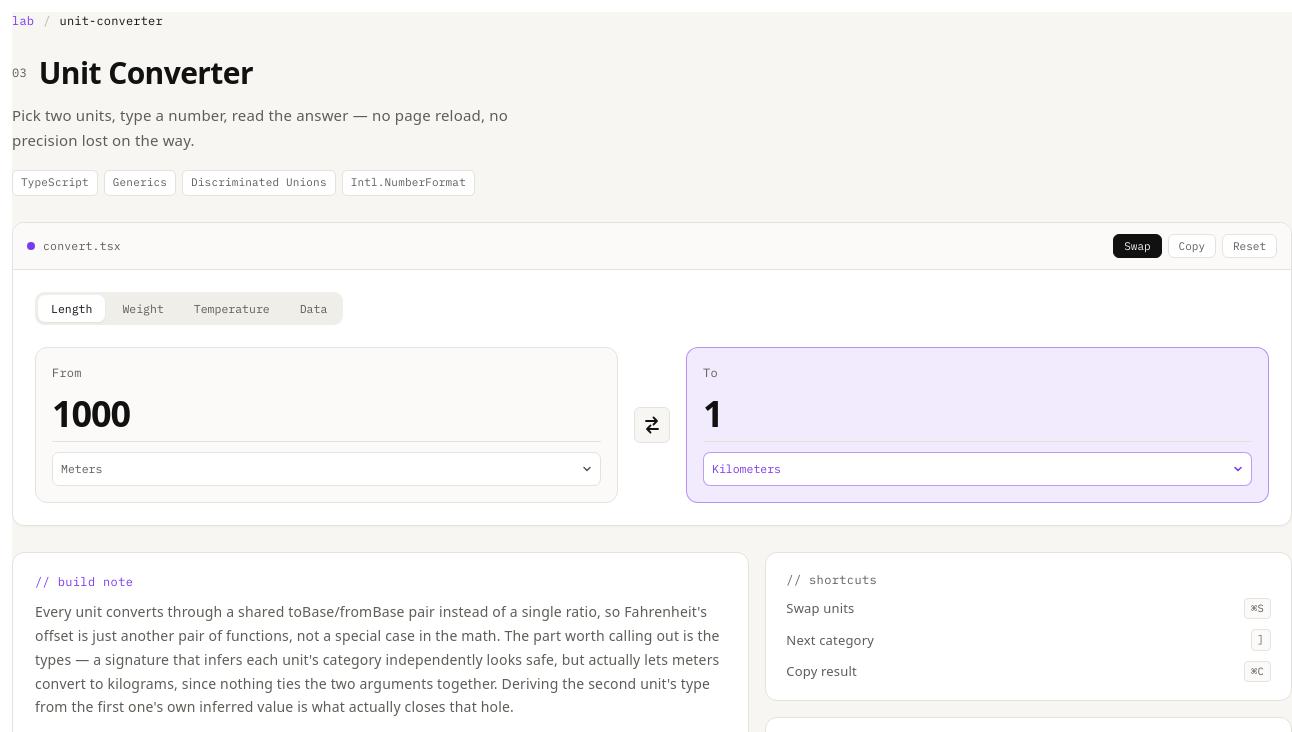
Test: UnitConverterPage › switches category, resetting to that category's defaults
Click the tab "Temperature". click: {"x": 232, "y": 309}
box: [181,295,283,322]
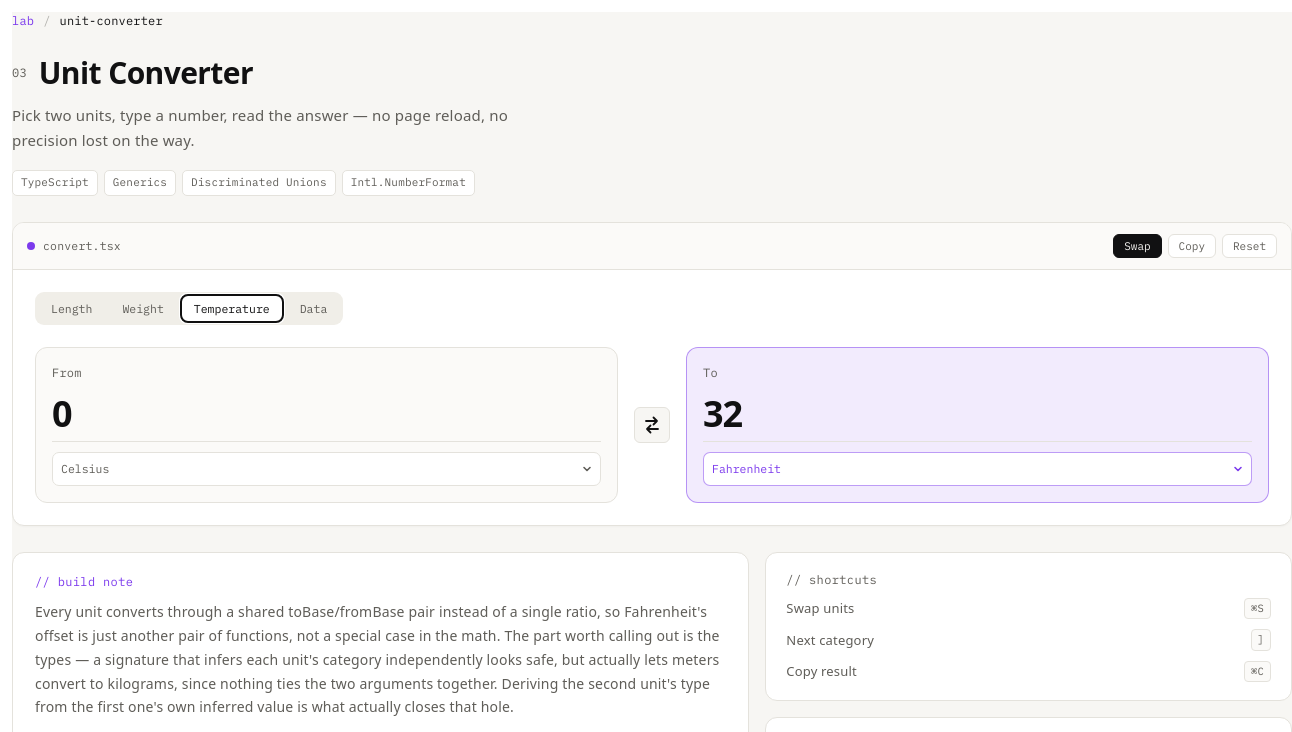
Now the field labelled "From" holds "0", box [52,392,601,442]
Now the text "32" is shown, box [703,392,1252,442]
